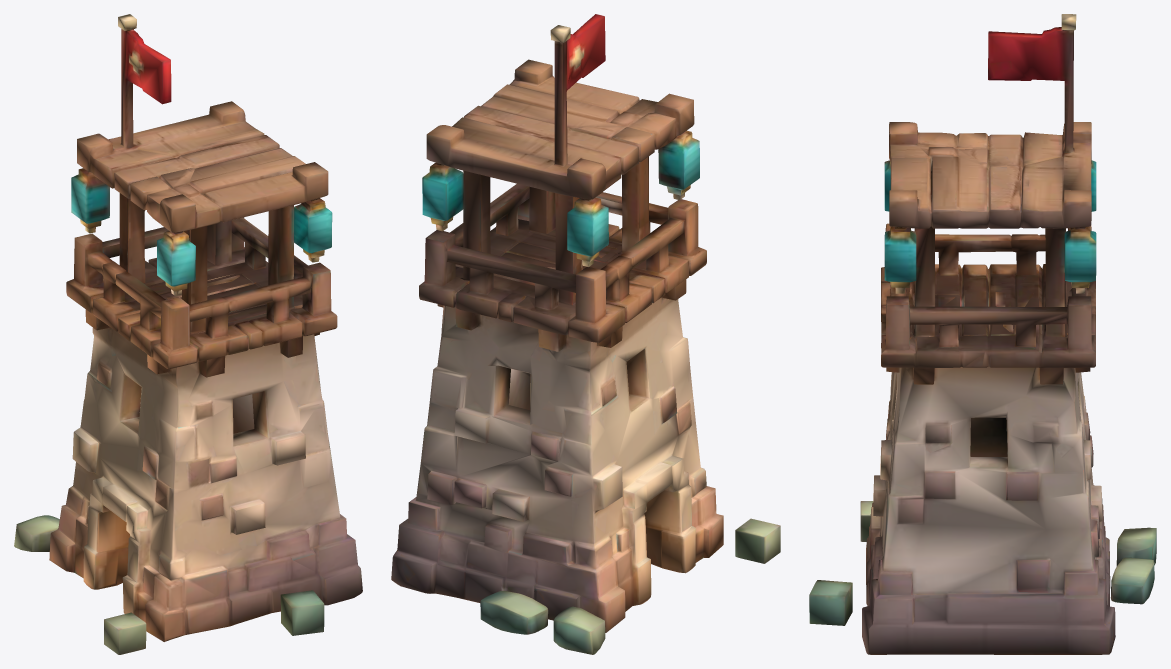
File: tower.glb
3 renders of one model, left to right at view 1: azimuth 30°, elevation 25°; view 2: azimuth 150°, elevation 25°; view 3: azimuth 270°, elevation 25°, orthographic. The views are drawn at different scales.
Parts seen in each view (by area): view 1: node_0; view 2: node_0; view 3: node_0.
Part boxes in pixels (box(x1,y1,x2,y2)): node_0: box(14, 14, 362, 654); node_0: box(391, 14, 780, 654); node_0: box(809, 14, 1156, 654).
Size of the model in its own units: 0.4848 by 1.01 by 0.5586.
Materials: 1 (1 with a texture image).
